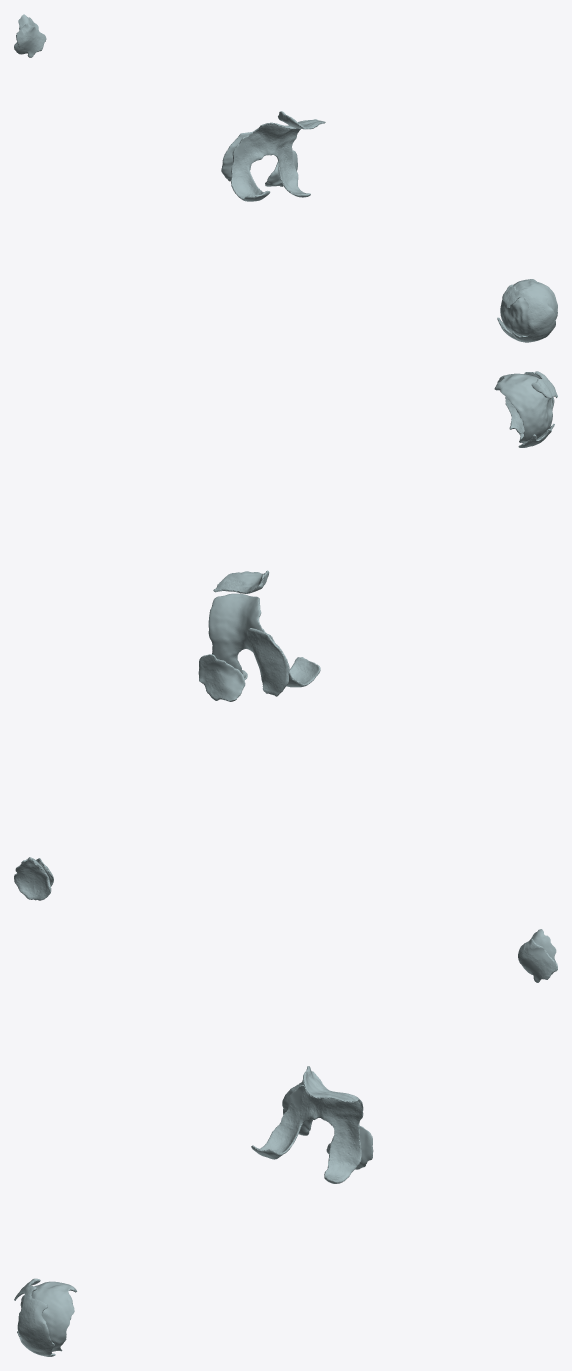
Rendered from vhf-right-cartilage.glb.
3 renders of one model, top to bottom at view 1: azimuth 30°, elevation 25°; view 2: azimuth 150°, elevation 25°; view 3: azimuth 330°, elevation 25°, orthographic. The views are drawn at different scales.
Parts seen in each view (by area): view 1: vhf-right-cartilage-femurdistal, vhf-right-cartilage-pelvisacetabulum, vhf-right-cartilage-femurhead, vhf-right-cartilage-tibiadistal, vhf-right-cartilage-tibiamedial; view 2: vhf-right-cartilage-femurdistal, vhf-right-cartilage-femurhead, vhf-right-cartilage-tibiamedial, vhf-right-cartilage-tibialateral, vhf-right-cartilage-talus, vhf-right-cartilage-patella, vhf-right-cartilage-pelvisacetabulum; view 3: vhf-right-cartilage-femurdistal, vhf-right-cartilage-femurhead, vhf-right-cartilage-pelvisacetabulum, vhf-right-cartilage-tibiadistal, vhf-right-cartilage-patella.
Boxes of the visible parts, <box> form: vhf-right-cartilage-femurdistal: <box>231,120,310,201</box>; vhf-right-cartilage-pelvisacetabulum: <box>497,284,555,342</box>; vhf-right-cartilage-femurhead: <box>500,279,557,336</box>; vhf-right-cartilage-tibiadistal: <box>16,23,46,57</box>; vhf-right-cartilage-tibiamedial: <box>221,131,252,181</box>; vhf-right-cartilage-femurdistal: <box>208,593,320,687</box>; vhf-right-cartilage-femurhead: <box>494,373,552,442</box>; vhf-right-cartilage-tibiamedial: <box>247,628,289,696</box>; vhf-right-cartilage-tibialateral: <box>198,654,245,701</box>; vhf-right-cartilage-talus: <box>14,857,51,900</box>; vhf-right-cartilage-patella: <box>213,570,269,593</box>; vhf-right-cartilage-pelvisacetabulum: <box>516,371,557,447</box>; vhf-right-cartilage-femurdistal: <box>251,1085,363,1183</box>; vhf-right-cartilage-femurhead: <box>20,1281,76,1351</box>; vhf-right-cartilage-pelvisacetabulum: <box>14,1278,55,1356</box>; vhf-right-cartilage-tibiadistal: <box>518,938,557,982</box>; vhf-right-cartilage-patella: <box>302,1066,358,1102</box>.
Bounding box in the file's own units: 80.76 × 89.11 × 762.
